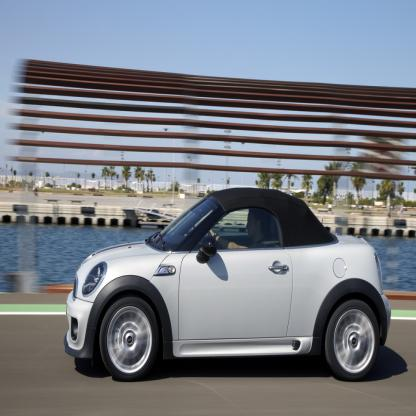Vehicle: (63, 191, 391, 380)
